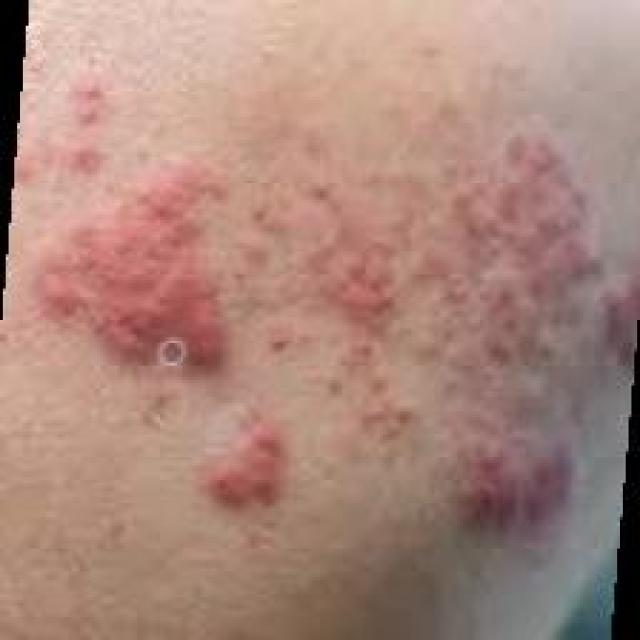others: (37, 83, 623, 640)
